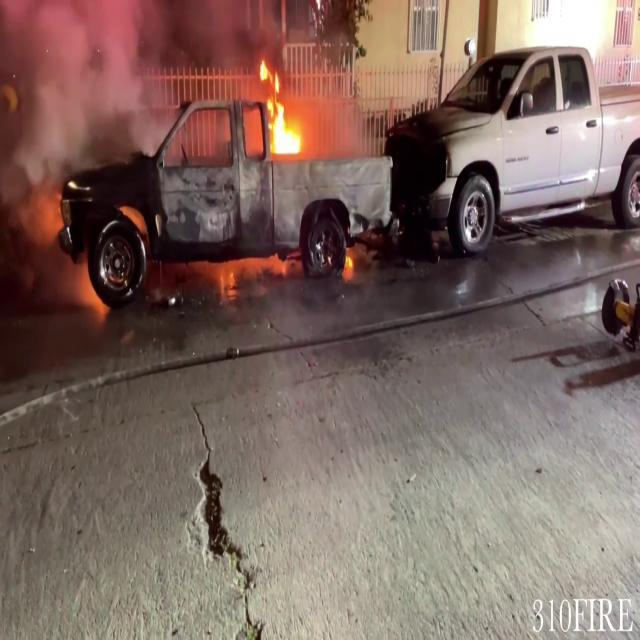Fire: (257, 59, 309, 159)
Smoke: (0, 0, 260, 150)
